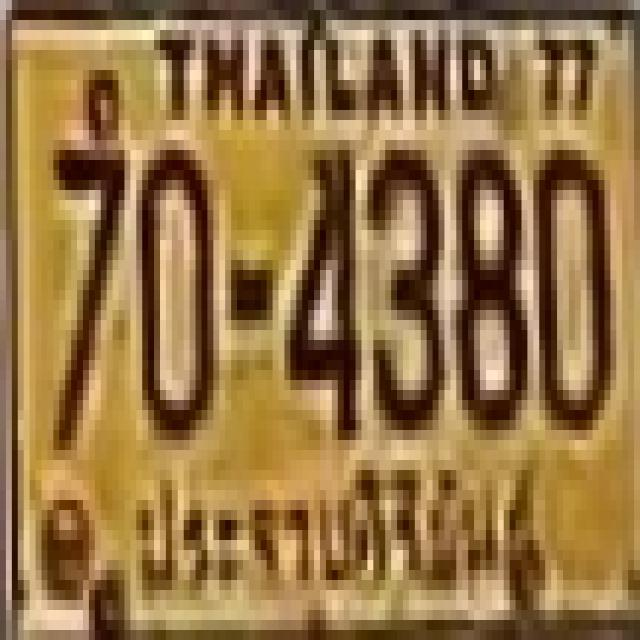0: (136, 140, 214, 430), (534, 140, 610, 420)
3: (368, 140, 438, 420)
4: (284, 140, 356, 430)
7: (48, 140, 124, 440)
8: (451, 140, 522, 420)
PKN: (124, 456, 547, 604)
